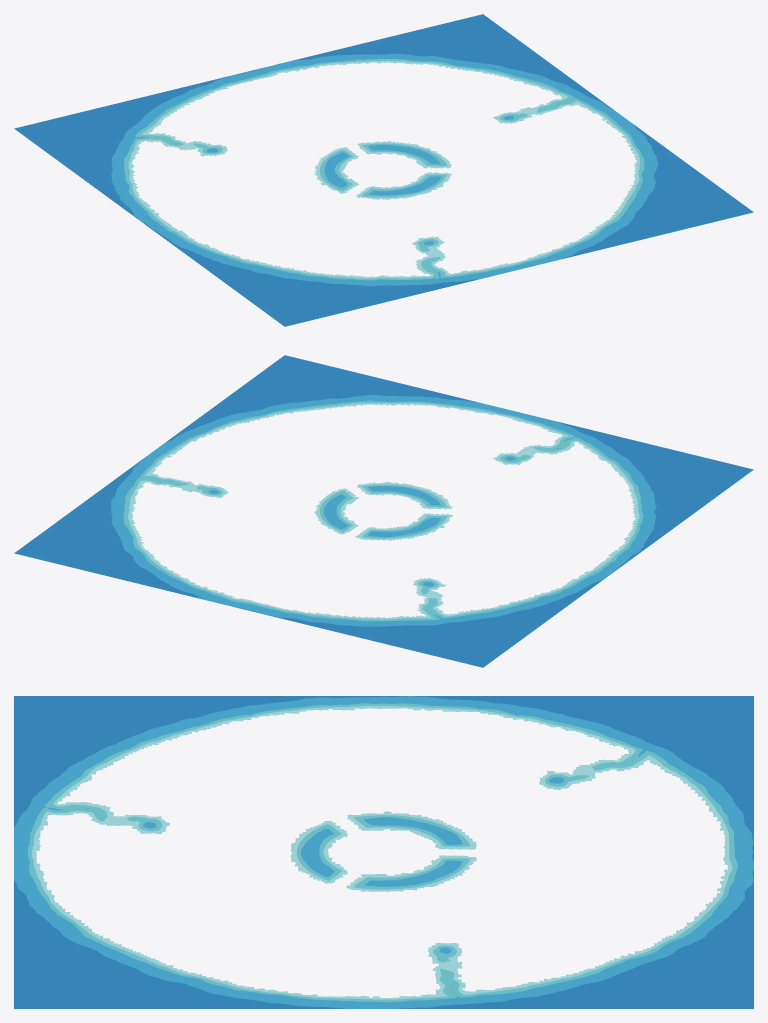
Rendered from Inv-2-Water.fbx.
The picture shows the model from 3 angles, top to bottom: view 1: azimuth 30°, elevation 25°; view 2: azimuth 150°, elevation 25°; view 3: azimuth 270°, elevation 25°; orthographic projection. The views are drawn at different scales.
Parts seen in each view (by area): view 1: Inv-2-Water; view 2: Inv-2-Water; view 3: Inv-2-Water.
Part boxes in pixels (x1,y1,x2,y2): Inv-2-Water: [14, 14, 753, 326]; Inv-2-Water: [14, 355, 753, 667]; Inv-2-Water: [14, 696, 753, 1008].
Size of the model in its own units: 200 by 0 by 200.
